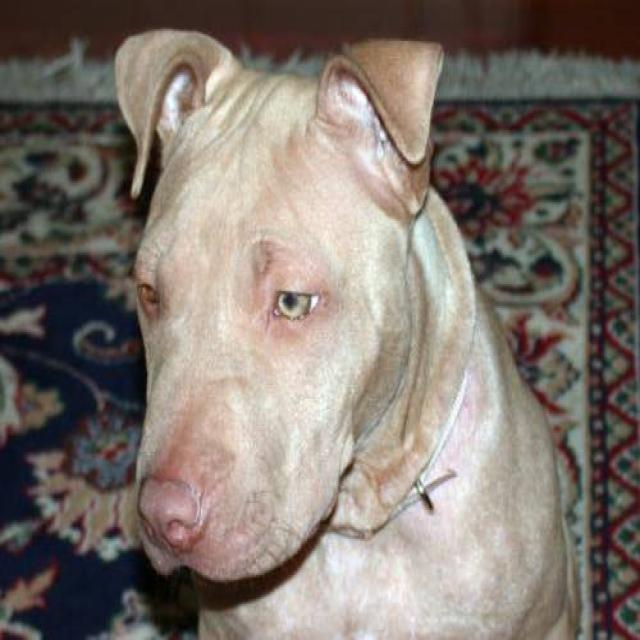dog: (112, 26, 582, 638)
